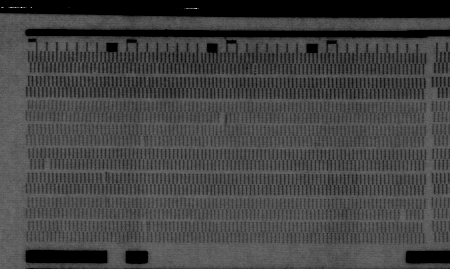Broken hole: (431, 85, 441, 100), (397, 209, 408, 221), (217, 112, 228, 123), (43, 159, 53, 170)
Oblique printing: (100, 171, 113, 186), (249, 63, 261, 77), (139, 135, 151, 148), (141, 220, 152, 232)
